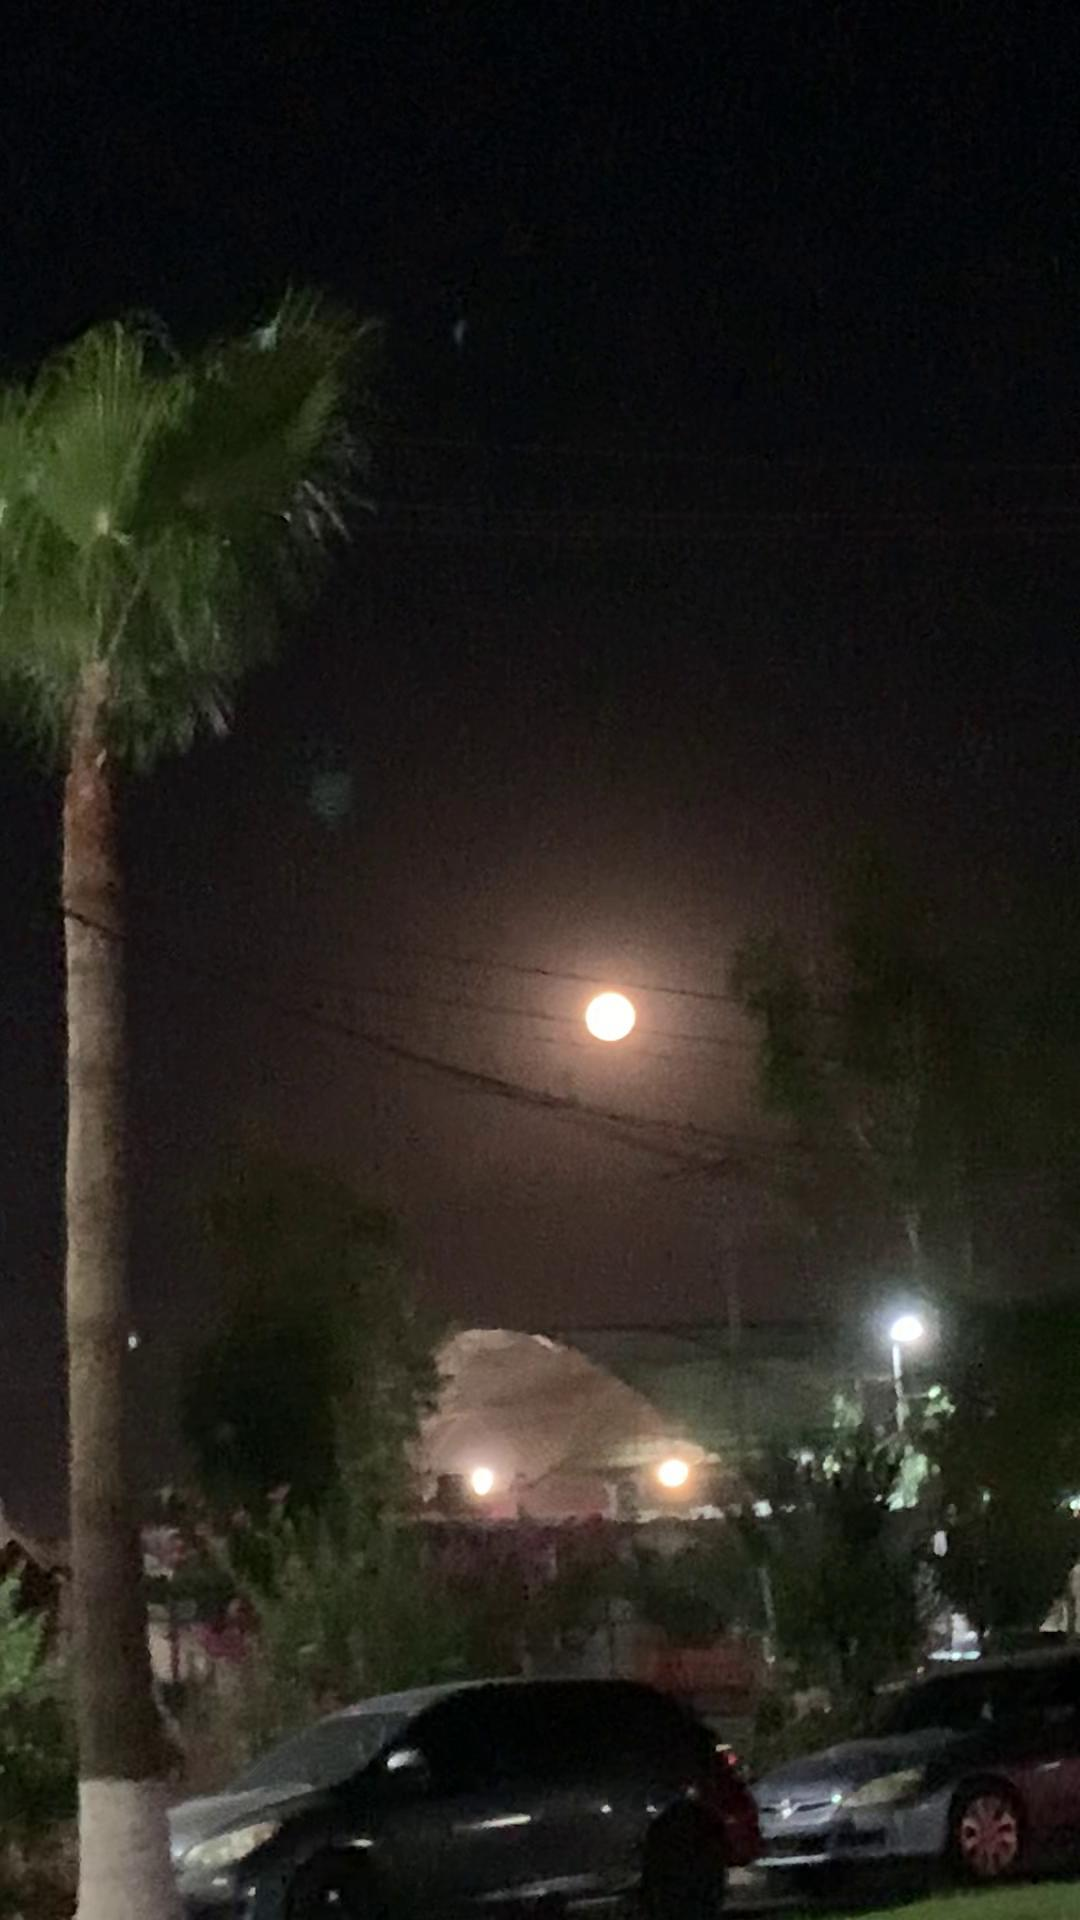moon: (563, 980, 645, 1039)
